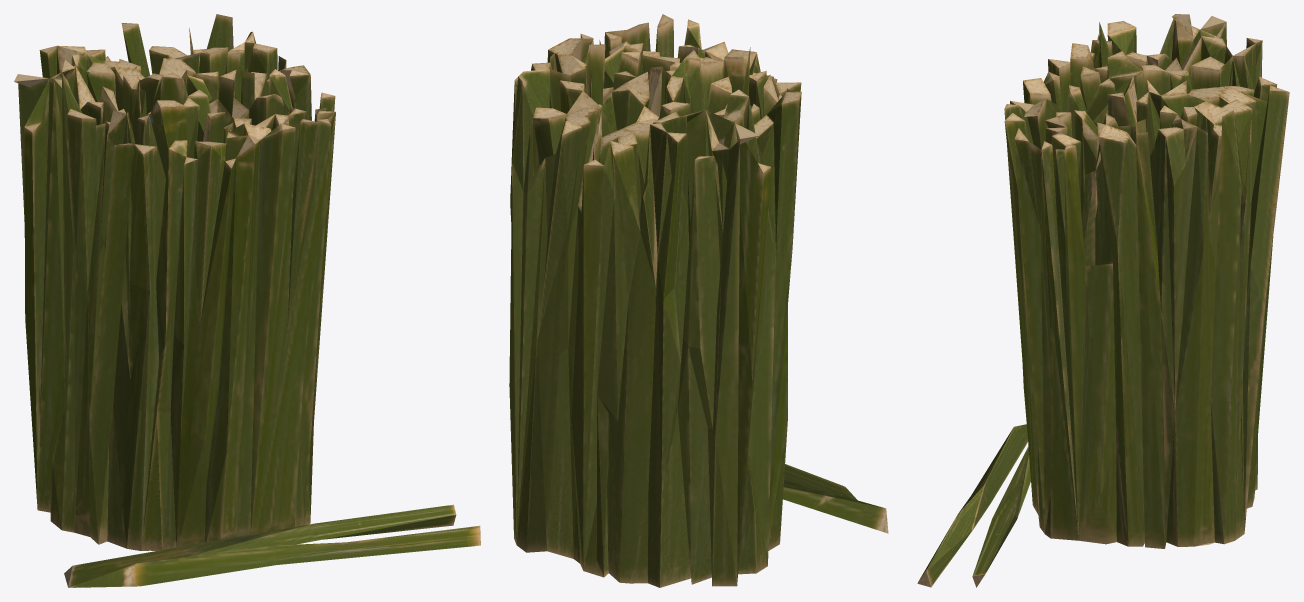
File: junco_cortado.glb
The picture shows the model from 3 angles, left to right: view 1: azimuth 30°, elevation 25°; view 2: azimuth 150°, elevation 25°; view 3: azimuth 270°, elevation 25°; orthographic projection. The views are drawn at different scales.
Bounding box in the file's own units: 1.54 × 1.9 × 1.43.
Materials: 1 (1 with a texture image).
